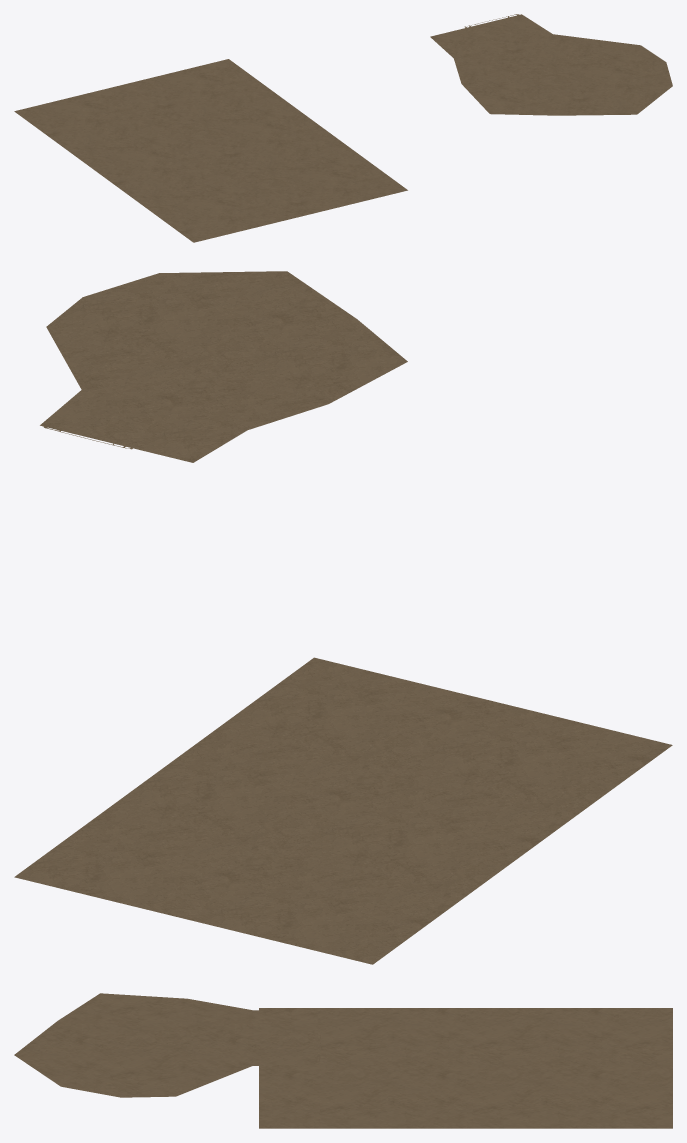
File: SM_ZSJ_Terrain005.FBX
The picture shows the model from 3 angles, top to bottom: view 1: azimuth 30°, elevation 25°; view 2: azimuth 150°, elevation 25°; view 3: azimuth 270°, elevation 25°; orthographic projection. The views are drawn at different scales.
Parts seen in each view (by area): view 1: SM_ZSJ_Terrain005; view 2: SM_ZSJ_Terrain005; view 3: SM_ZSJ_Terrain005.
Part boxes in pixels (<box>): SM_ZSJ_Terrain005: <box>14,14,672,242</box>; SM_ZSJ_Terrain005: <box>14,271,672,964</box>; SM_ZSJ_Terrain005: <box>14,993,672,1128</box>.
Bounding box in the file's own units: 3162 × 907 × 3791.
